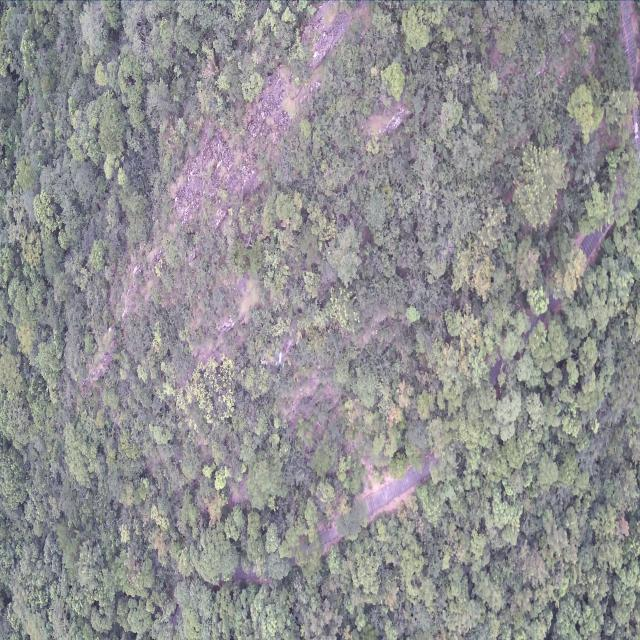UAV: (275, 351, 285, 367)
